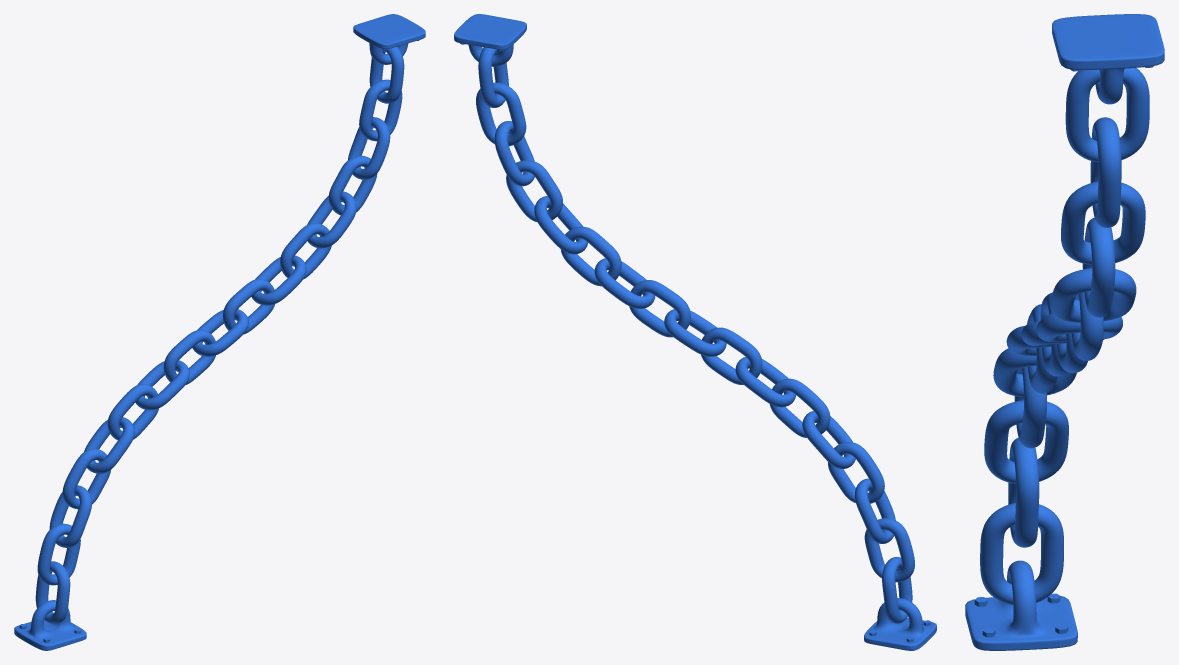
3 renders of one model, left to right at view 1: azimuth 30°, elevation 25°; view 2: azimuth 150°, elevation 25°; view 3: azimuth 270°, elevation 25°, orthographic. The views are drawn at different scales.
Visible parts, largest first — view 1: Chain0; view 2: Chain0; view 3: Chain0.
Boxes of the visible parts, x1,y1,x2,y2 form: Chain0: (14, 14, 425, 650); Chain0: (454, 14, 936, 650); Chain0: (965, 14, 1164, 650).
Size of the model in its own units: 6.53 by 7.53 by 1.49.
